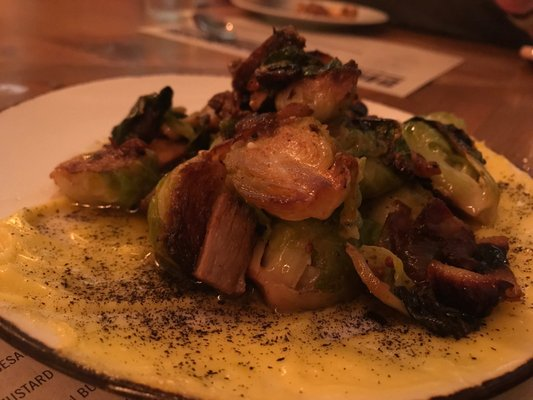pizza: (138, 0, 199, 26)
